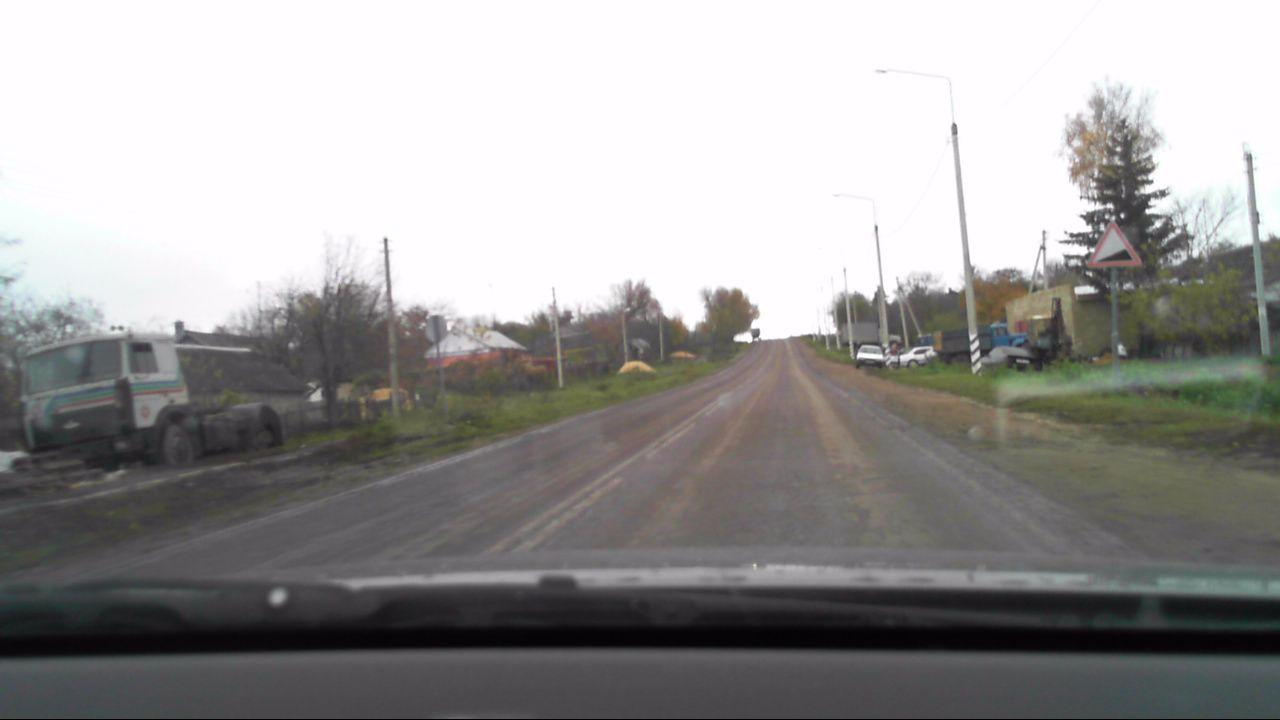1_14: (1087, 217, 1143, 272)
